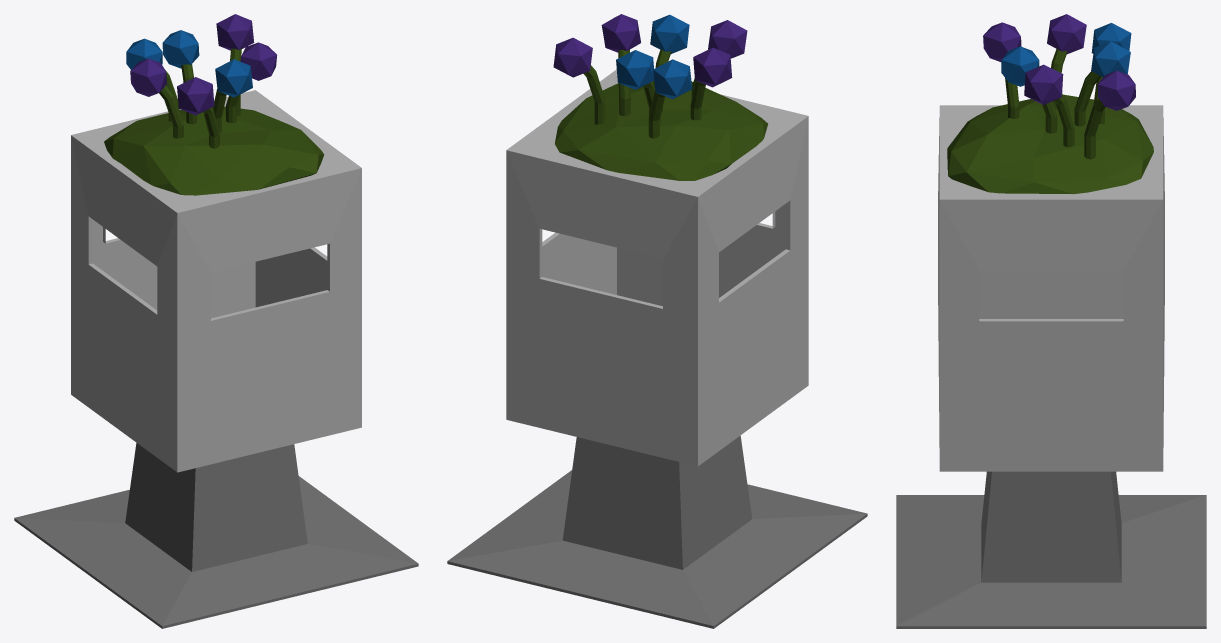
File: TrashcanLvl1.fbx
3 views of the same model, side by side, from view 1: azimuth 30°, elevation 25°; view 2: azimuth 150°, elevation 25°; view 3: azimuth 270°, elevation 25° (orthographic). The views are drawn at different scales.
Visible parts, largest first — view 1: Cube.101; view 2: Cube.101; view 3: Cube.101.
Part boxes in pixels (left/top/right/bottom): Cube.101: left=14, top=14, right=418, bottom=628; Cube.101: left=447, top=14, right=867, bottom=628; Cube.101: left=896, top=14, right=1206, bottom=628.
Size of the model in its own units: 28.9 by 53.23 by 28.9.
